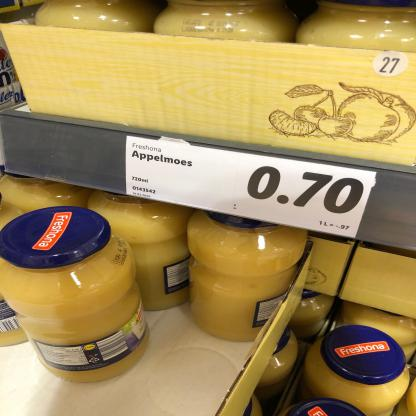prtg: (127, 137, 377, 239)
